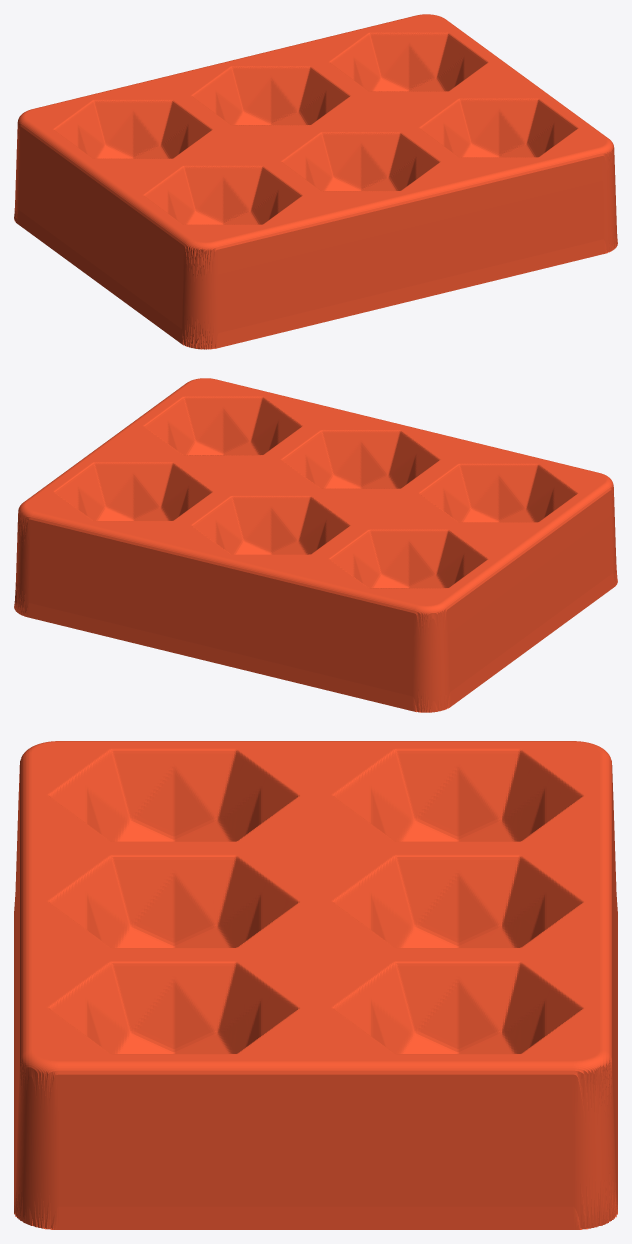
File: mold.glb
3 views of the same model, one above another, from view 1: azimuth 30°, elevation 25°; view 2: azimuth 150°, elevation 25°; view 3: azimuth 270°, elevation 25° (orthographic). The views are drawn at different scales.
Parts seen in each view (by area): view 1: geometry_0; view 2: geometry_0; view 3: geometry_0.
Boxes of the visible parts, box(x1,y1,x2,y2) form: geometry_0: box(14, 14, 617, 349); geometry_0: box(14, 378, 617, 712); geometry_0: box(14, 741, 617, 1229).
Size of the model in its own units: 0.1605 by 0.0362 by 0.1227.
